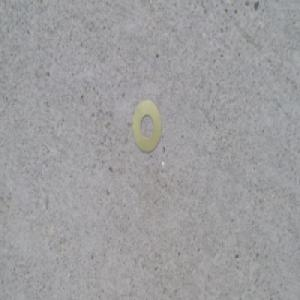Washer: (132, 97, 164, 153)
